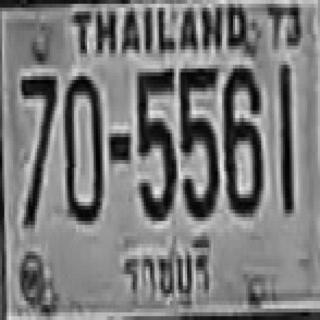N00: (64, 73, 101, 221)
N01: (279, 63, 292, 212), (278, 63, 290, 212)
N05: (178, 65, 218, 217), (135, 68, 174, 217)
N06: (222, 65, 261, 213)
N07: (20, 72, 54, 225)
P52: (120, 234, 216, 310)
